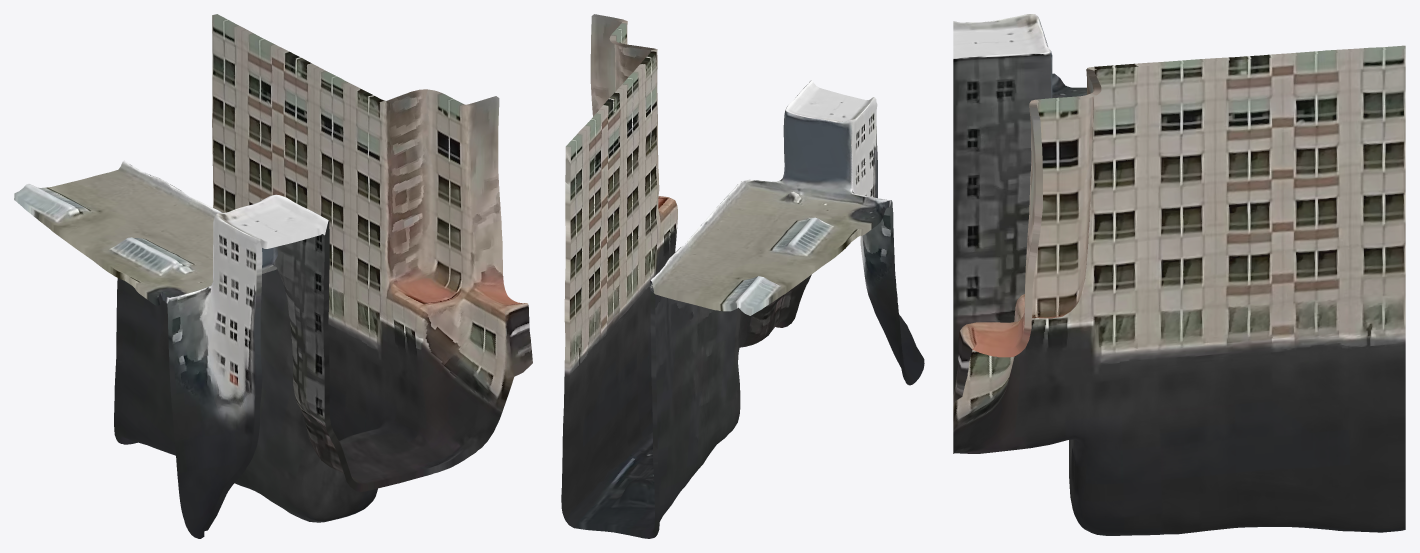
The model's file is z20-167763-405239-h0-yup-uvflip-v3-world.glb.
3 views of the same model, side by side, from view 1: azimuth 30°, elevation 25°; view 2: azimuth 150°, elevation 25°; view 3: azimuth 270°, elevation 25° (orthographic). The views are drawn at different scales.
Bounding box in the file's own units: 30.2 × 36.6 × 30.32.
1 material, 1 textured.
